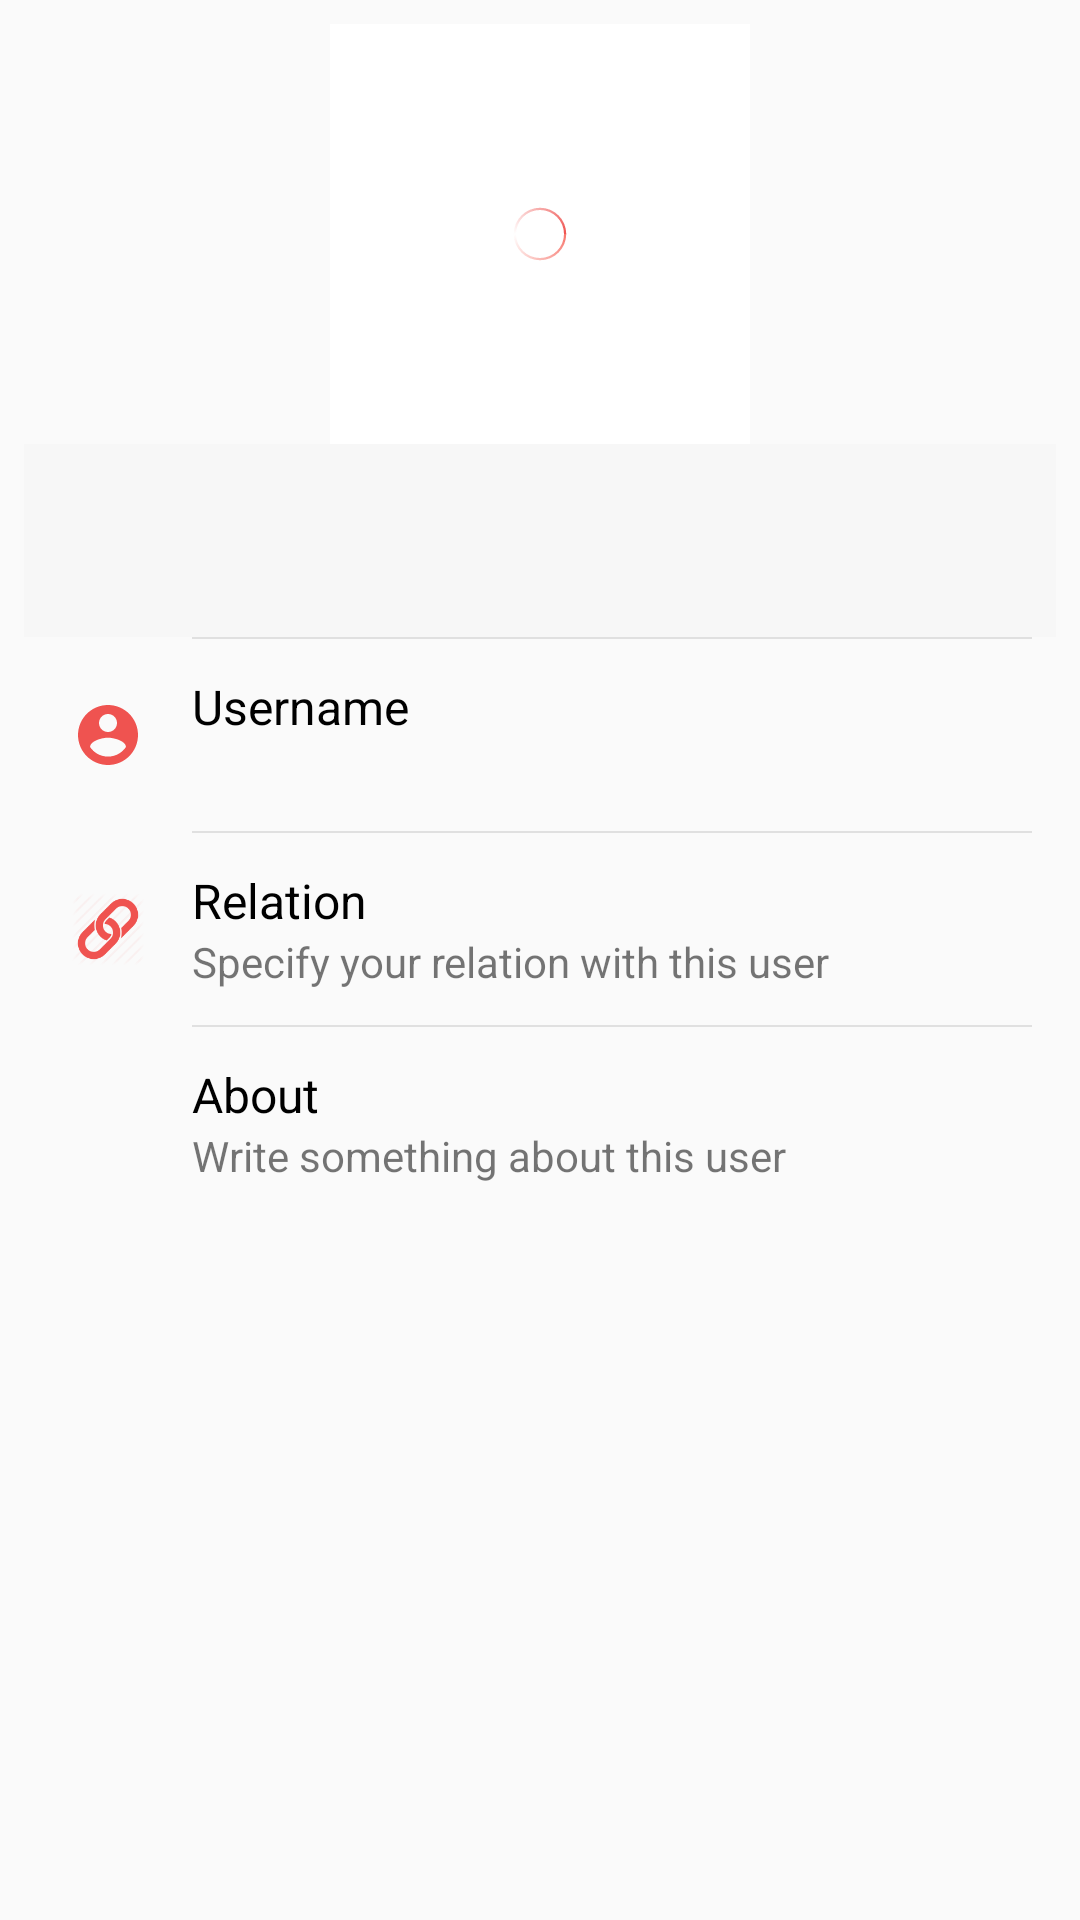

Locate icon controls on the screen. Image size 1080px×1920px, boxes as box(x1, y1, x2, y2).
account circle: box(78, 705, 138, 765)
